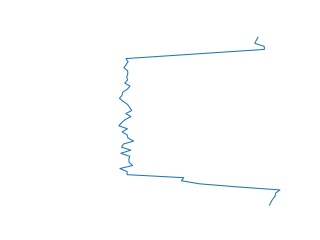distributaryChannelFill: (114, 36, 285, 206)
